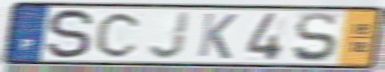4: (245, 11, 286, 62)
C: (93, 10, 145, 60)
J: (146, 10, 193, 61)
K: (195, 11, 240, 61)
S: (45, 7, 97, 61), (290, 10, 339, 64)
